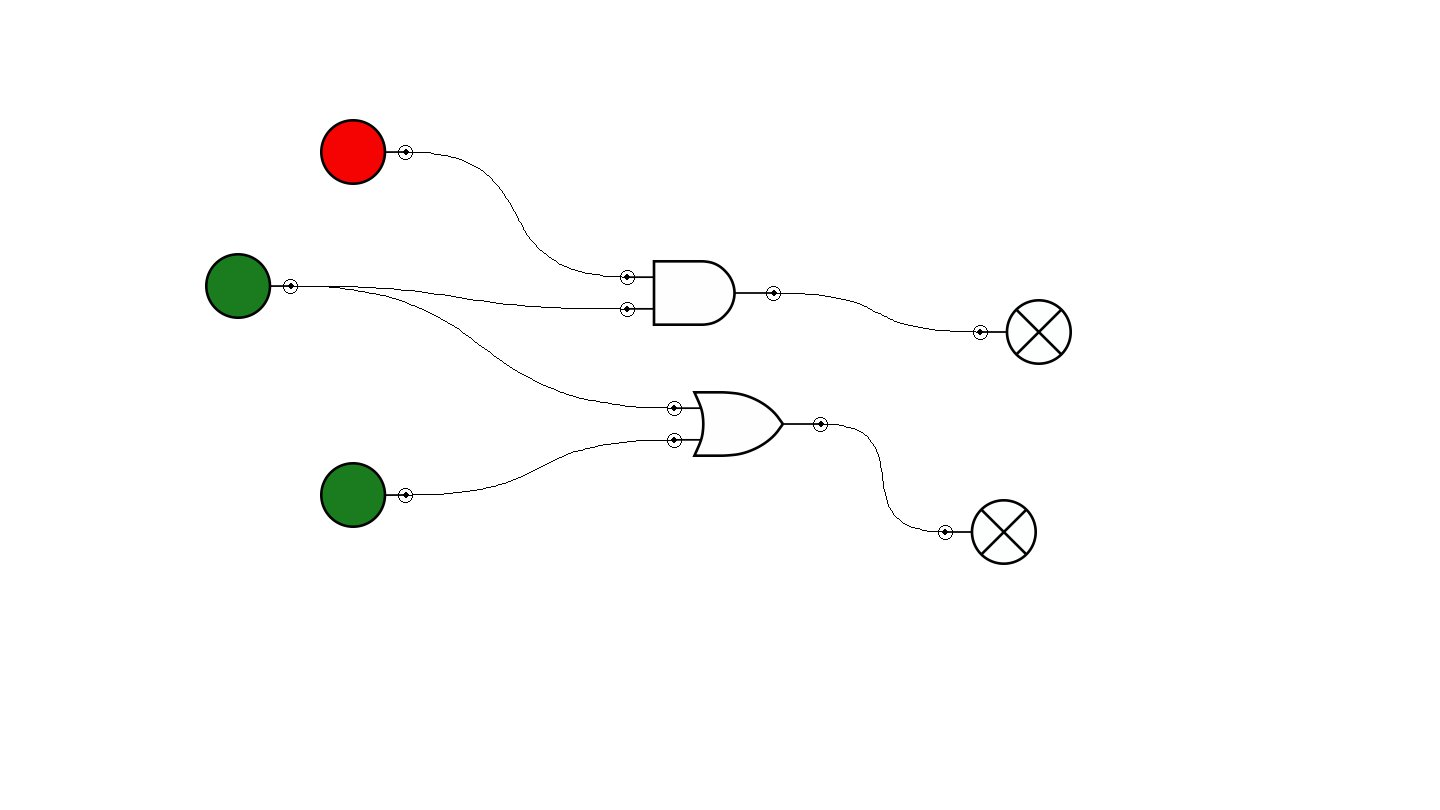and: (620, 260, 781, 326)
bulb: (938, 499, 1037, 565), (973, 299, 1072, 365)
or: (667, 391, 828, 457)
switch_False: (320, 119, 413, 185)
switch_True: (320, 462, 413, 528), (205, 253, 298, 319)
